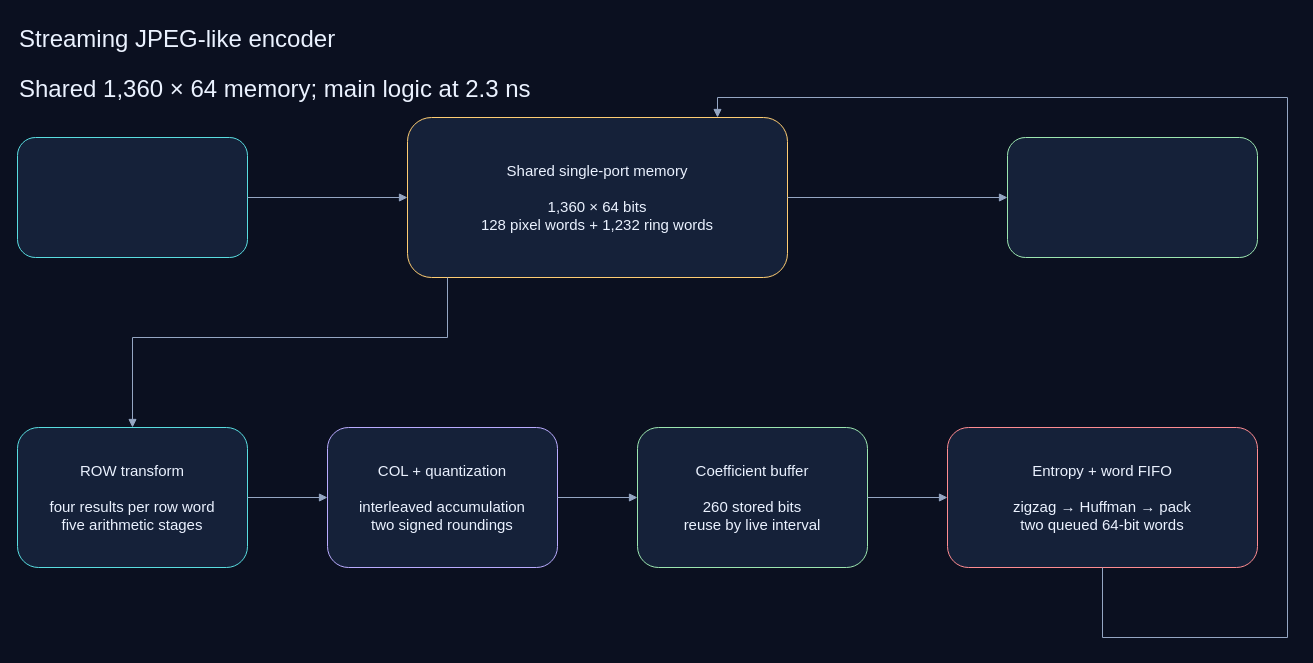
This 1313x663 diagram has some shape labels left out. Here are the shapes that lost their labels. From the top down, the centre of each, then its label:
At (x=132, y=197): "Pixel staging 8 raster bytes → one word".
At (x=1132, y=197): "Output register prefetch → MSB-first bytes".
